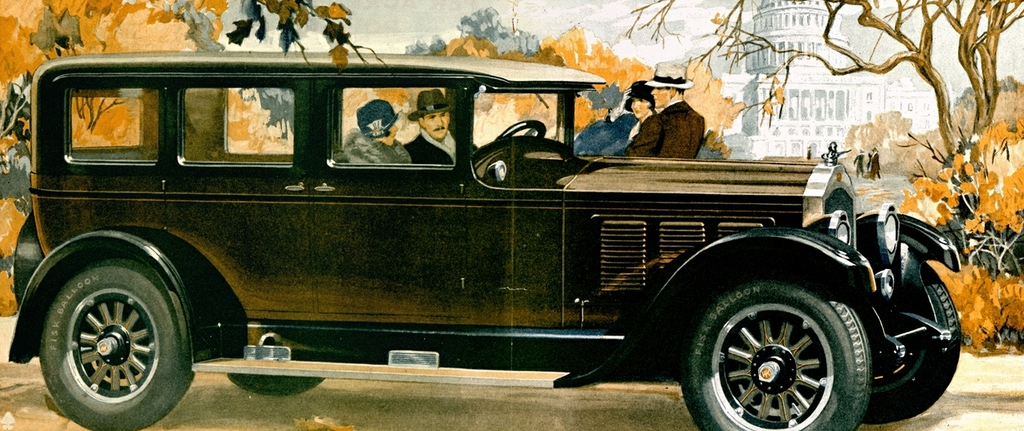Car: (4, 49, 961, 430)
